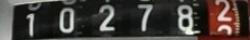digits: (176, 4, 194, 31), (97, 4, 115, 30), (58, 6, 75, 32), (137, 3, 153, 30), (214, 0, 232, 21), (26, 12, 34, 36)
